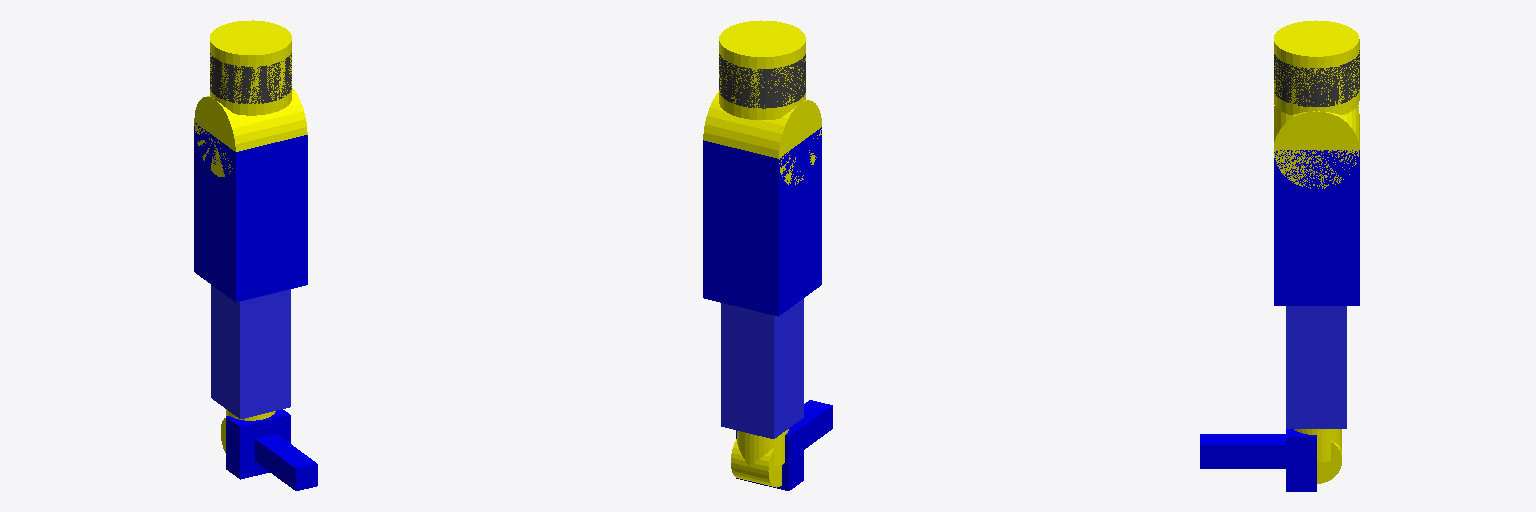
The robot description file, URDF, robot "third_arm":
<?xml version="1.0"?>
<robot name="third_arm">

  <!-- Third Arm has 5 joints, base link kept trans_xyz with the environment link -->

  <link name="environment_x">
    <visual>
    <origin xyz="0 0 0" rpy ="0 0 0"/>
      <material name="Gray">
       <color rgba="0.3 0.3 0.3 1.0"/>
      </material>   
      <geometry>
        <cylinder length="0.0" radius="0.0"/>
      </geometry>
    </visual>
  </link>

  <link name="environment_y">
    <visual>
    <origin xyz="0 0 0" rpy ="0 0 0"/>
      <material name="Gray">
       <color rgba="0.3 0.3 0.3 1.0"/>
      </material>   
      <geometry>
        <cylinder length="0.0" radius="0.0"/>
      </geometry>
    </visual>
  </link>

  <joint name="env_x" type="prismatic">
  <origin xyz="0 0 0" rpy="0 0 0" />
  <axis xyz="1 0 0"/>    
  <limit lower="-1" upper="1" effort="100" velocity="10"/>    
    <parent link="environment_x"/>
    <child link="environment_y"/>
  </joint>

  <link name="environment_z">
    <visual>
    <origin xyz="0 0 0" rpy ="0 0 0"/>
      <material name="Gray">
       <color rgba="0.3 0.3 0.3 1.0"/>
      </material>   
      <geometry>
        <cylinder length="0.0" radius="0.0"/>
      </geometry>
    </visual>
  </link>


  <joint name="env_y" type="prismatic">
  <origin xyz="0 0 0" rpy="0 0 0" />
  <axis xyz="0 1 0"/>        
  <limit lower="-1" upper="1" effort="100" velocity="10"/>    
    <parent link="environment_y"/>
    <child link="environment_z"/>
  </joint>

  <link name="base_link">
    <visual>
		<origin xyz="0 0 0" rpy ="0 0  0"/>
      <material name="Gray">
       <color rgba="0.3 0.3 0.3 1.0"/>
      </material> 	
      <geometry>
        <cylinder length="0.05" radius="0.05"/>
      </geometry>
    </visual>
  </link>

  <joint name="env_z_to_base" type="prismatic">
  <origin xyz="0 0 0" rpy="0 0 0" />
  <axis xyz="0 0 1"/>        
  <limit lower="-1" upper="1" effort="100" velocity="10"/>      
    <parent link="environment_z"/>
    <child link="base_link"/>
  </joint>


  <link name="base_motor">
  	<inertial>
  		<origin xyz="0 0 0" rpy ="0 0 0"/>
  		<mass value="1"/>
  		<inertia ixx="100"  ixy="0"  ixz="0" iyy="100" iyz="0" izz="100" />
  	</inertial>
    <visual>
		<origin xyz="0 0 0" rpy ="0 0  0"/>
      <material name="Yellow">
       <color rgba="1.0 1.0 0.0 1.0"/>
      </material> 	
      <geometry>
        <cylinder length="0.08" radius="0.05"/>
      </geometry>
    </visual>
  </link>


  <joint name="base_to_motor1" type="revolute">
  	<axis xyz="0 0 1"/>
  	<limit lower="-3.14" upper="3.14" effort="10" velocity="0.314"/>
  	<origin xyz="0 0 0.0" rpy="0 0 0" />
    <parent link="base_link"/>
    <child link="base_motor"/>
  </joint>


  <link name="lift_motor">
  	<inertial>
  		<origin xyz="0 0 0" rpy ="0 0 0"/>
  		<mass value="1"/>
  		<inertia ixx="100"  ixy="0"  ixz="0" iyy="100" iyz="0" izz="100" />
  	</inertial>
    <visual>
		<origin xyz="0 0 0" rpy ="0 0 0"/>
      <material name="Yellow">
       <color rgba="1.0 1.0 0.0 1.0"/>
      </material> 	
      <geometry>
        <cylinder length="0.1" radius="0.05"/>
      </geometry>
    </visual>
  </link>

  <joint name="swivel_to_motor2" type="revolute">
  	<axis xyz="0 0 1"/>
  	<limit lower="0" upper="1.5708" effort="10" velocity="0.314"/>
  	<origin xyz="0 0 -0.08" rpy="1.5708 3.14159 1.5708" />
    <parent link="base_motor"/>
    <child link="lift_motor"/>
  </joint>

  <link name="extend_link1">
    <visual>
		<origin xyz="0 0.0 0" rpy ="0 0 0"/>
      <material name="Blue">
       <color rgba="0 0.0 1.0 0.4"/>
      </material> 	
      <geometry>
        <box size="0.1 0.2 0.1"/>
      </geometry>
    </visual>
  </link>

  <joint name="motor2_to_extend1" type="fixed">
  	<origin xyz="0 0.1 0" rpy="0 0 0" />
    <parent link="lift_motor"/>
    <child link="extend_link1"/>
  </joint>

  <link name="extend_link2">
    <visual>
		<origin xyz="0 0 0" rpy ="0 0 0"/>
      <material name="Blue2">
       <color rgba="0.2 0.2 1.0 1.0"/>
      </material> 	
      <geometry>
        <box size="0.07 .33 .07"/>
      </geometry>
    </visual>
  </link>
  
  <joint name="extension" type="prismatic">
  	<axis xyz="0 1 0"/>
  	<limit lower="0" upper="0.12" effort="10" velocity="5"/>
  	<origin xyz="0 0.1 0" rpy="0 0 0" />
    <parent link="extend_link1"/>
    <child link="extend_link2"/>
  </joint>


  <link name="wrist_rotation_motor">
  	<inertial>
  		<origin xyz="0 0 0" rpy =" 1.5708 0  0"/>
  		<mass value="1"/>
  		<inertia ixx="100"  ixy="0"  ixz="0" iyy="100" iyz="0" izz="100" />
  	</inertial>
    <visual>
		<origin xyz="0 0 0" rpy ="1.5708 0 0"/>
      <material name="Yellow">
       <color rgba="1.0 1.0 0.0 1.0"/>
      </material> 	
      <geometry>
        <cylinder length="0.09" radius="0.03"/>
      </geometry>
    </visual>
  </link>

  <joint name="wrist_motor_to_extension" type="revolute">
  	<axis xyz="0 1 0"/>
  	<limit lower="-1.5708" upper="1.5708" effort="5" velocity="0.5"/>
  	<origin xyz="0 0.165 0" rpy="0 0 0" />
    <parent link="extend_link2"/>
    <child link="wrist_rotation_motor"/>
  </joint>

  <link name="wrist_tilt_motor">
    <inertial>
      <origin xyz="0 0 0" rpy ="0 0 0"/>
      <mass value="1"/>
      <inertia ixx="100"  ixy="0"  ixz="0" iyy="100" iyz="0" izz="100" />
    </inertial>
    <visual>
    <origin xyz="0 0 0" rpy ="0 0 0"/>
      <material name="Yellow">
       <color rgba="1.0 1.0 0.0 1.0"/>
      </material>   
      <geometry>
        <cylinder length="0.05" radius="0.03"/>
      </geometry>
    </visual>
  </link>

  <joint name="wrist_motor2_to_wrist_tilt_motor" type="revolute">
    <axis xyz="0 0 1"/>
    <limit lower="0" upper="3.14159" effort="5" velocity="0.5"/>
    <origin xyz="0 0.045 0" rpy="0 0 -1.5708" />
    <parent link="wrist_rotation_motor"/>
    <child link="wrist_tilt_motor"/>
  </joint>

  <link name="wrist_plate">
    <visual>
		<origin xyz="0 0 0" rpy ="0 0 0"/>
      <material name="Blue">
       <color rgba="0.0 0.0 1.0 1.0"/>
      </material> 	
      <geometry>
        <box size="0.07 .035 .07"/>
      </geometry>
    </visual>
  </link>

  <joint name="wrist_tilt_motor_to_plate" type="fixed">
  	<origin xyz="0 0.0175 0" rpy="0 0 0" />
    <parent link="wrist_tilt_motor"/>
    <child link="wrist_plate"/>
  </joint>

  <link name="gripper_plate">
    <visual>
    <origin xyz="0.0 0 0" rpy ="0 0 0"/>
      <material name="Blue">
       <color rgba="0.0 0.0 1.0 1.0"/>
      </material>   
      <geometry>
        <box size=".1 .03 .03"/>
      </geometry>
    </visual>
  </link>

  <joint name="wrist_plate_to_gripper_plate" type="fixed">
    <origin xyz="0 0.0675 0" rpy="1.5708 0 1.5708" />
    <parent link="wrist_plate"/>
    <child link="gripper_plate"/>
  </joint>

  <link name="gripper_end_point">
    <visual>
    <origin xyz="0 0 0" rpy ="0 0 0"/>
      <material name="Blue">
       <color rgba="0.0 0.0 1.0 1.0"/>
      </material>   
      <geometry>
        <box size=".0 .0 .0"/>
      </geometry>
    </visual>
  </link>

<joint name="gripper_end_point" type="fixed">
    <origin xyz="0.05 0 0" rpy="0 0 0" />
    <parent link="gripper_plate"/>
    <child link="gripper_end_point"/>
  </joint>
  <!--
  <link name="gripper_motor">
  	<inertial>
  		<origin xyz="0 0 0" rpy =" 1.5708 0  0"/>
  		<mass value="1"/>
  		<inertia ixx="100"  ixy="0"  ixz="0" iyy="100" iyz="0" izz="100" />
  	</inertial>
    <visual>
		<origin xyz="0 0 0" rpy ="0 0 0"/>
      <material name="Yellow">
       <color rgba="1.0 1.0 0.0 1.0"/>
      </material> 	
      <geometry>
        <cylinder length="0.07" radius="0.01"/>
      </geometry>
    </visual>
  </link>

  <joint name="gripper_motor_to_plate" type="fixed">
  	<origin xyz="0 0.02 0" rpy="0 0 0" />
    <parent link="wrist_plate"/>
    <child link="gripper_motor"/>
  </joint>

  
  <link name="finger1">
  	<inertial>
  		<origin xyz="0 0.06 0" rpy =" 0 0  0"/>
  		<mass value="1"/>
  		<inertia ixx="100"  ixy="0"  ixz="0" iyy="100" iyz="0" izz="100" />
  	</inertial>  	
    <visual>
		<origin xyz="0 0.06 0" rpy ="0 0 0"/>
      <material name="Orange1">
       <color rgba="1.0 0.65 0.0 1.0"/>
      </material> 	
      <geometry>
        <box size="0.01 .1 .02"/>
      </geometry>
    </visual>
  </link>

  <joint name="finger1_to_gripper_motor" type="revolute">
  	<axis xyz="0 0 1"/>
  	<limit lower="0" upper="1" effort="5" velocity="0.5"/>
  	<origin xyz="0 0 0" rpy="0 0 0" />
    <parent link="gripper_motor"/>
    <child link="finger1"/>
  </joint>

  <link name="finger2">
  	<inertial>
  		<origin xyz="0 0.06 0" rpy =" 0 0  0"/>
  		<mass value="1"/>
  		<inertia ixx="100"  ixy="0"  ixz="0" iyy="100" iyz="0" izz="100" />
  	</inertial>
    <visual>
		<origin xyz="0 0.06 0" rpy ="0 0 0"/>
      <material name="Orange2">
       <color rgba="1.0 0.55 0.0 1.0"/>
      </material> 	
      <geometry>
        <box size="0.01 .1 .02"/>
      </geometry>
    </visual>
  </link>

  <joint name="finger2_to_gripper_motor" type="revolute">
  	<axis xyz="0 0 1"/>
  	<limit lower="-1" upper="0" effort="5" velocity="0.5"/>
  	<origin xyz="0 0 0" rpy="0 0 0" />
  	<mimic joint="finger1_to_gripper_motor" multiplier="-1" />
    <parent link="gripper_motor"/>
    <child link="finger2"/>
  </joint>
  -->
</robot>

--- Facts derived from the render (not from the file) ---
Views: 3 orthographic renders of the robot side by side, from view 1: azimuth 30°, elevation 25°; view 2: azimuth 150°, elevation 25°; view 3: azimuth 270°, elevation 25°.
Robot: third_arm — 13 links, 12 joints (4 revolute, 4 prismatic, 4 fixed); root link environment_x; default pose: every joint at zero.
Visible links, largest first — view 1: extend_link1, extend_link2, base_motor, lift_motor, wrist_plate, gripper_plate, base_link; view 2: extend_link1, extend_link2, base_motor, lift_motor, base_link, wrist_plate, wrist_tilt_motor, wrist_rotation_motor, gripper_plate; view 3: extend_link1, extend_link2, base_motor, lift_motor, gripper_plate, base_link, wrist_plate, wrist_rotation_motor, wrist_tilt_motor.
Boxes of the visible links, <box> form: extend_link1: <box>194,123,307,301</box>; extend_link2: <box>211,285,290,418</box>; base_motor: <box>210,20,291,115</box>; lift_motor: <box>194,88,307,176</box>; wrist_plate: <box>226,409,290,479</box>; gripper_plate: <box>255,434,317,490</box>; base_link: <box>210,53,291,103</box>; extend_link1: <box>703,127,821,316</box>; extend_link2: <box>721,299,803,438</box>; base_motor: <box>719,20,805,119</box>; lift_motor: <box>703,92,821,184</box>; base_link: <box>719,54,805,108</box>; wrist_plate: <box>736,423,803,490</box>; wrist_tilt_motor: <box>731,439,781,487</box>; wrist_rotation_motor: <box>737,429,788,466</box>; gripper_plate: <box>797,400,832,449</box>; extend_link1: <box>1274,150,1359,305</box>; extend_link2: <box>1286,306,1346,428</box>; base_motor: <box>1274,20,1359,114</box>; lift_motor: <box>1274,106,1359,188</box>; gripper_plate: <box>1200,434,1285,468</box>; base_link: <box>1274,50,1359,106</box>; wrist_plate: <box>1286,429,1316,491</box>; wrist_rotation_motor: <box>1294,429,1341,461</box>; wrist_tilt_motor: <box>1317,441,1341,483</box>.
Size in the robot's own frame: 0.1 by 0.185 by 0.565 metres.
Geometry: primitives only (box / cylinder / sphere), no mesh files.